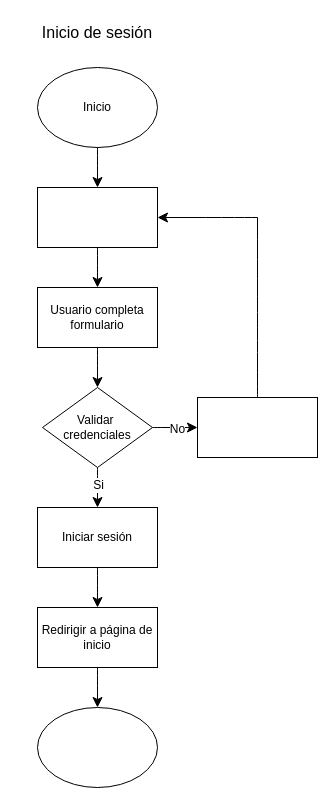
Image size: 335x805. Some labels were removed from this diagram. The centre of each missing label's shape, as x and y in pixels:
"Fin" belongs at [97,747].
"Mostrar formulario de inicio de sesión" belongs at [97,217].
"Mostrar mensaje de error" belongs at [257,427].
